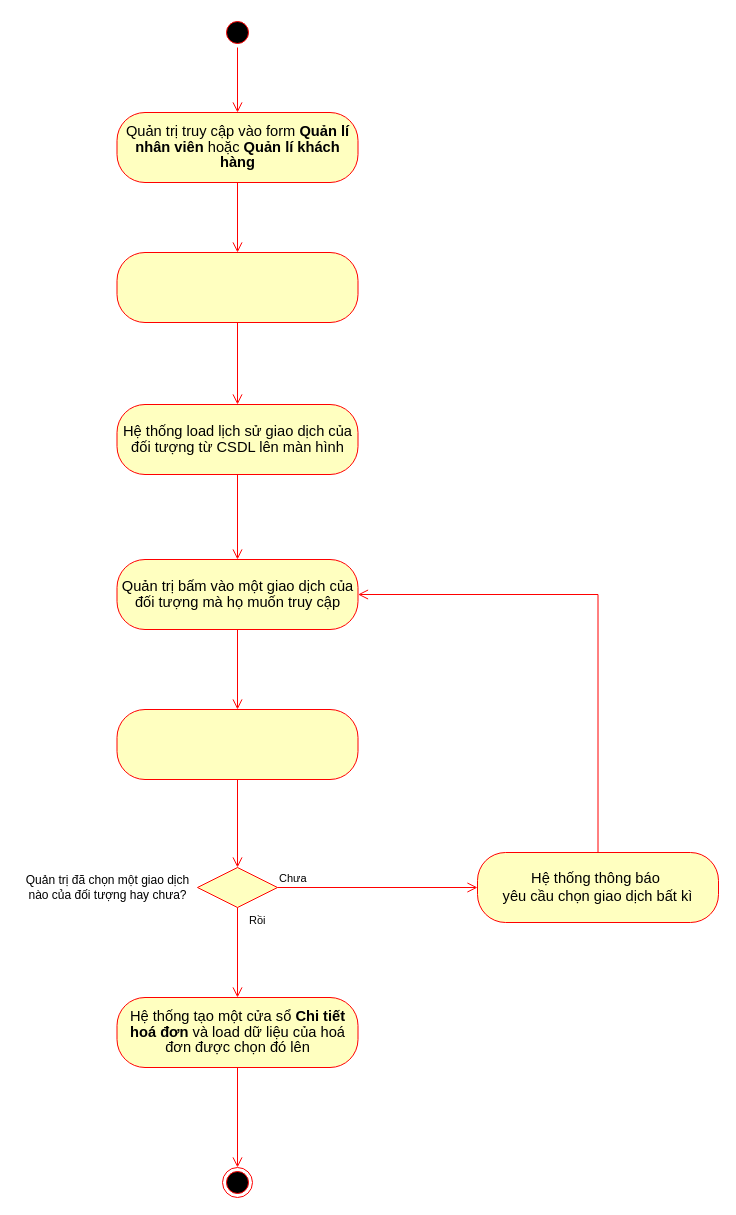
Image size: 736x1215. Some labels were removed from this diagram. Each missing label, with the centre of its shape:
"Quản trị chọn 1 đối tượng bất kì trong danh sách" goes at [237,287].
"Quản trị tiếp tục bấm vào nút Chi tiết hoá đơn" goes at [237,744].
